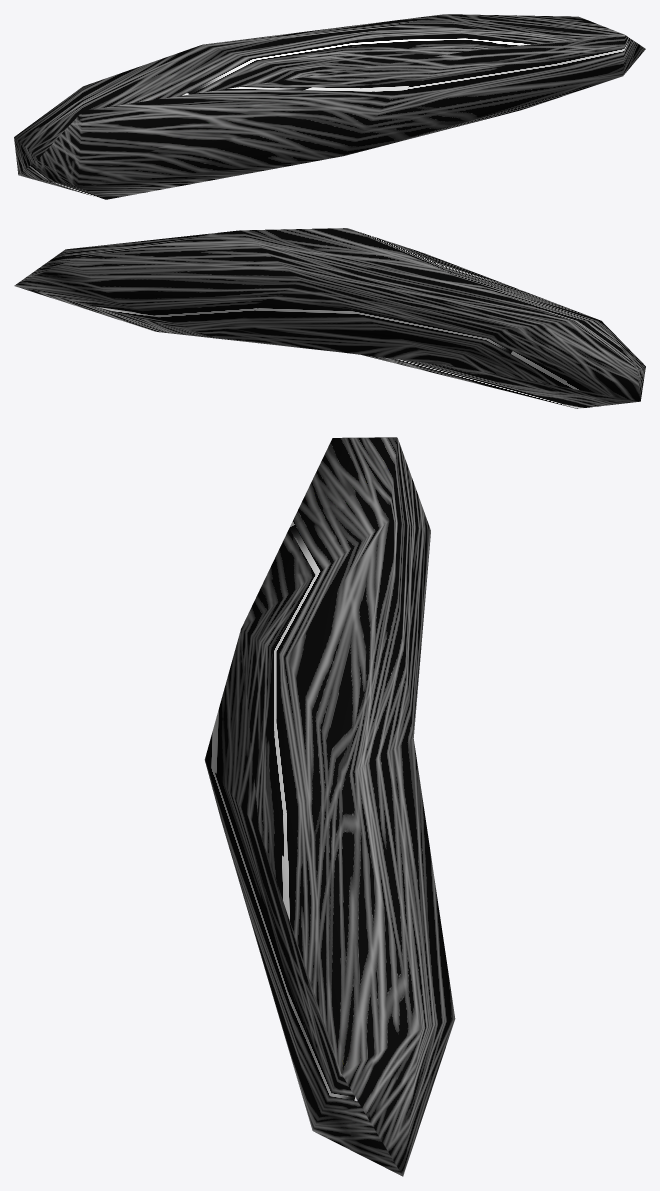
File: TI_SpiderWeb_03.fbx
3 renders of one model, top to bottom at view 1: azimuth 30°, elevation 25°; view 2: azimuth 150°, elevation 25°; view 3: azimuth 270°, elevation 25°, orthographic. The views are drawn at different scales.
Parts seen in each view (by area): view 1: TI_Spider_Web_03; view 2: TI_Spider_Web_03; view 3: TI_Spider_Web_03.
Part boxes in pixels (left/top/right/bottom): TI_Spider_Web_03: left=14, top=14, right=645, bottom=199; TI_Spider_Web_03: left=14, top=228, right=645, bottom=408; TI_Spider_Web_03: left=204, top=437, right=455, bottom=1176.
Size of the model in its own units: 7.41 by 1.53 by 1.29.
